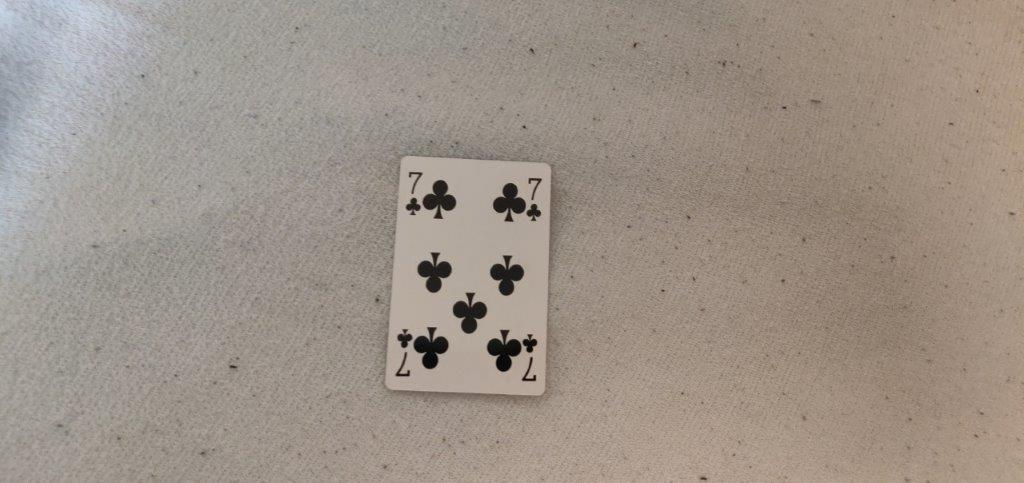7C: (400, 169, 426, 219), (526, 170, 545, 226)
